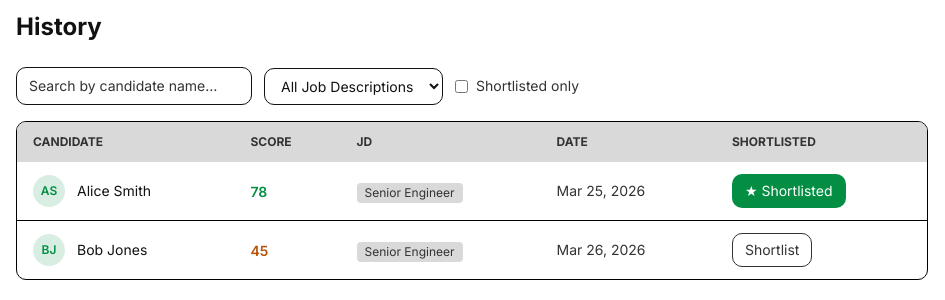
CandidateHistoryTable › no_results_filter_message_when_filter_applied
The image size is (945, 300).
Type "Nonexistent Person" into the field with placeholder "Search by candidate name…". click: x=134, y=86
box: [16,67,252,105]
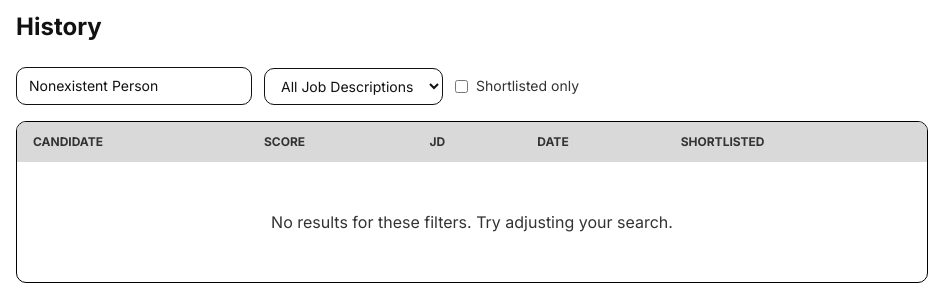
expect the text "No results for these filters. Try adjusting your search." is shown: met, box [17,162,927,282]
